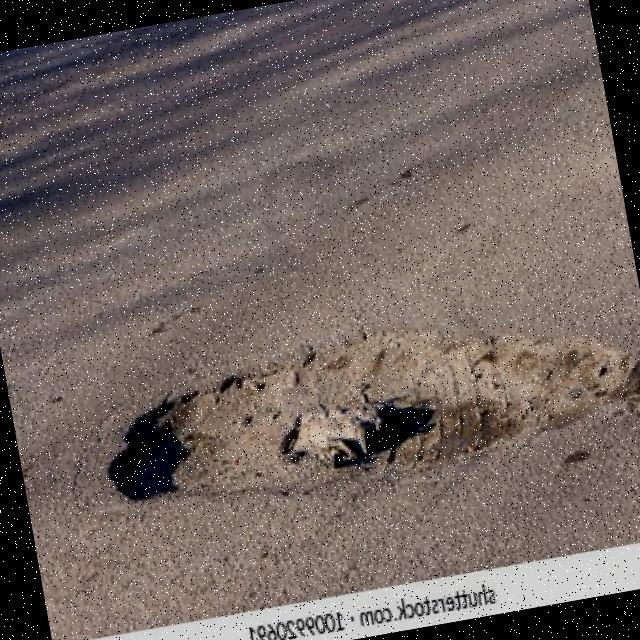Pothole: (108, 327, 640, 503)
